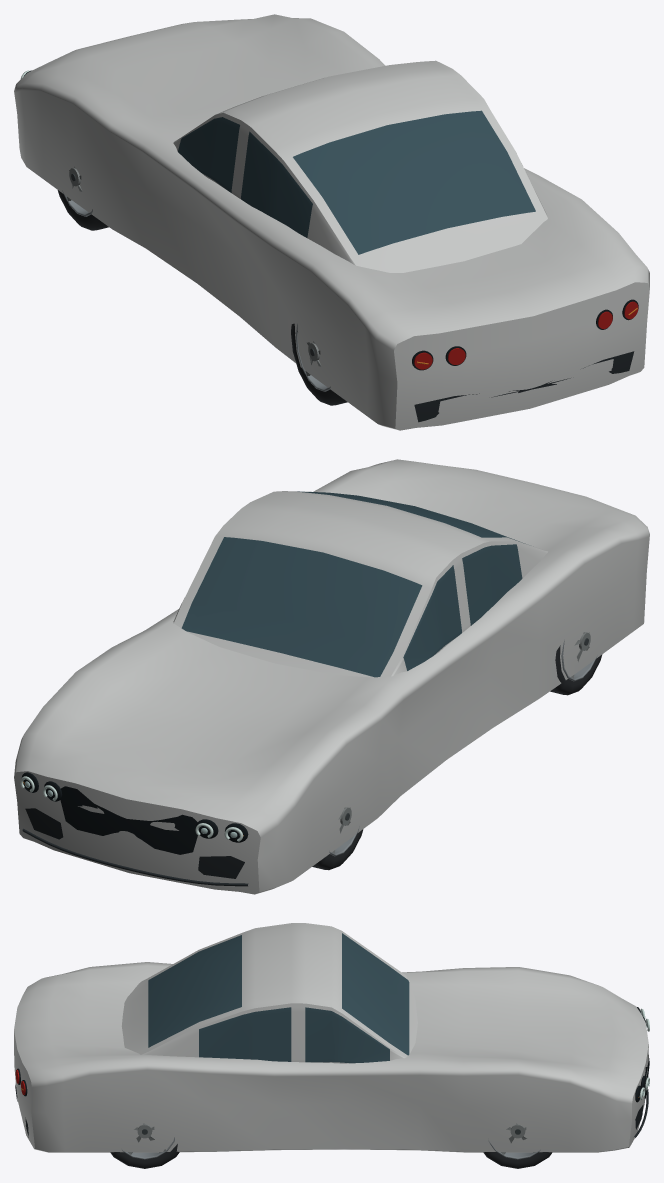
Rendered from morrow-440-lod.glb.
The picture shows the model from 3 angles, top to bottom: view 1: azimuth 30°, elevation 25°; view 2: azimuth 150°, elevation 25°; view 3: azimuth 270°, elevation 25°; orthographic projection. The views are drawn at different scales.
Visible parts, largest first — view 1: paint, glass, wheelSurface (×2), trim, brake; view 2: paint, glass, trim, wheelSurface (×2), head; view 3: paint, glass, wheelSurface (×2), trim.
Boxes of the visible parts, <box> form: paint: <box>14,14,649,430</box>; glass: <box>178,110,535,254</box>; wheelSurface (×2): <box>57,166,347,405</box>; trim: <box>24,70,638,422</box>; brake: <box>414,301,638,369</box>; paint: <box>14,459,649,894</box>; glass: <box>181,491,525,677</box>; trim: <box>21,772,248,886</box>; wheelSurface (×2): <box>312,632,602,870</box>; head: <box>20,776,243,841</box>; paint: <box>14,923,648,1152</box>; glass: <box>148,933,409,1063</box>; wheelSurface (×2): <box>110,1123,552,1168</box>; trim: <box>15,1007,649,1137</box>.
Size of the model in its own units: 1.96 by 1.44 by 5.03.
